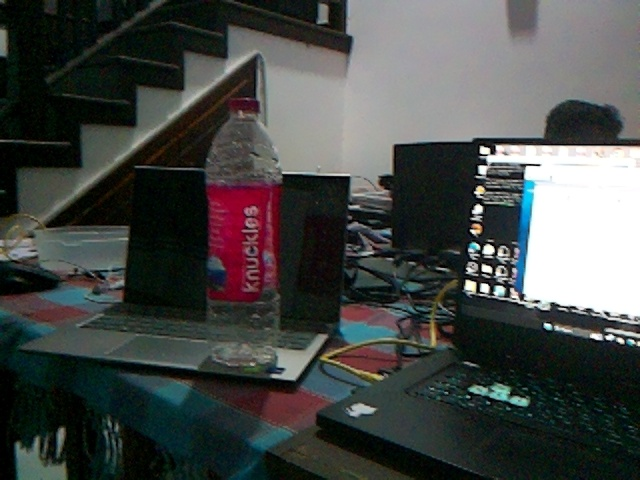bottle: (198, 96, 282, 374)
